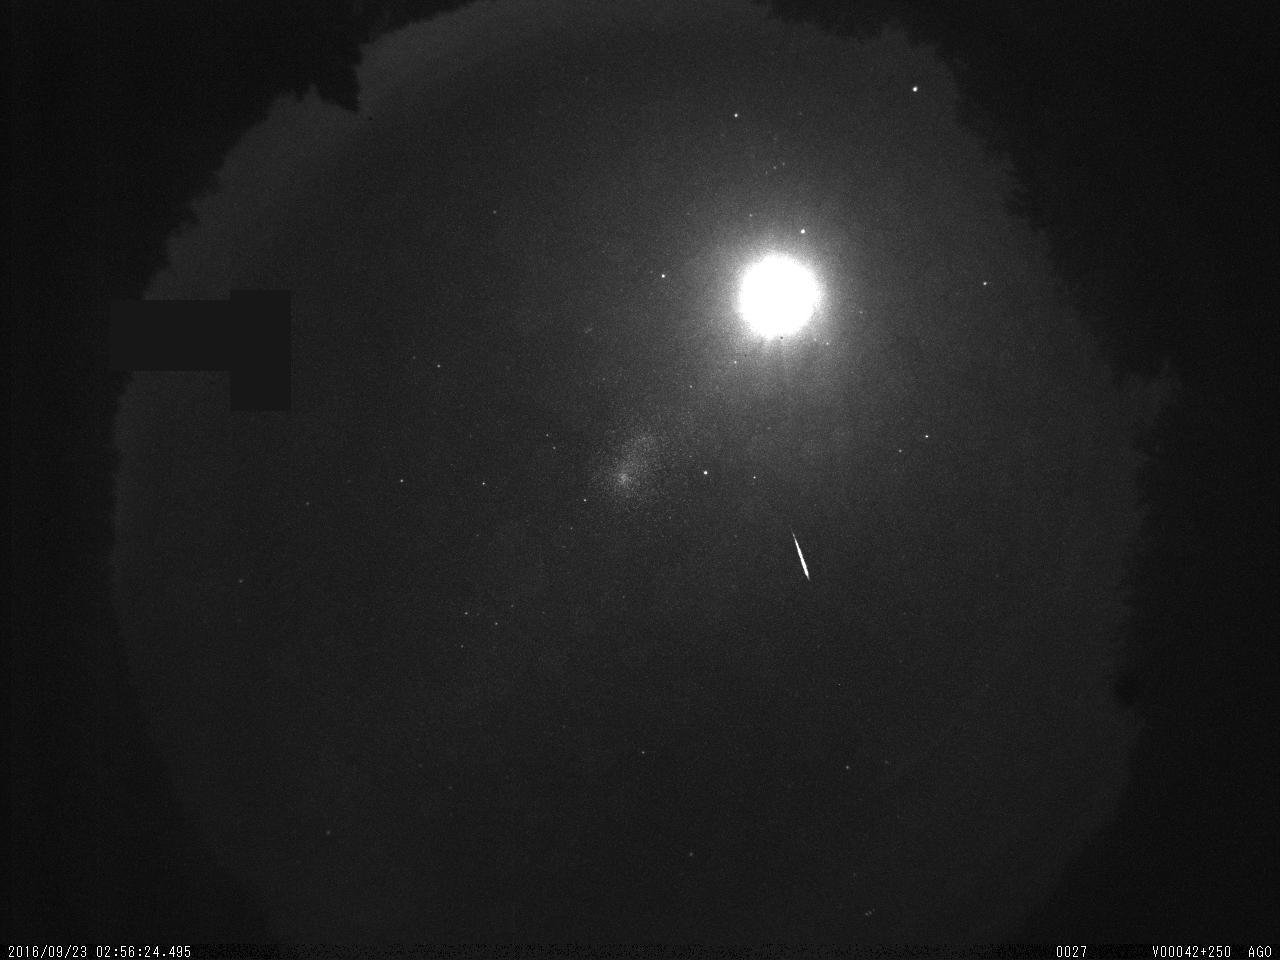meteor: (772, 518, 829, 594)
